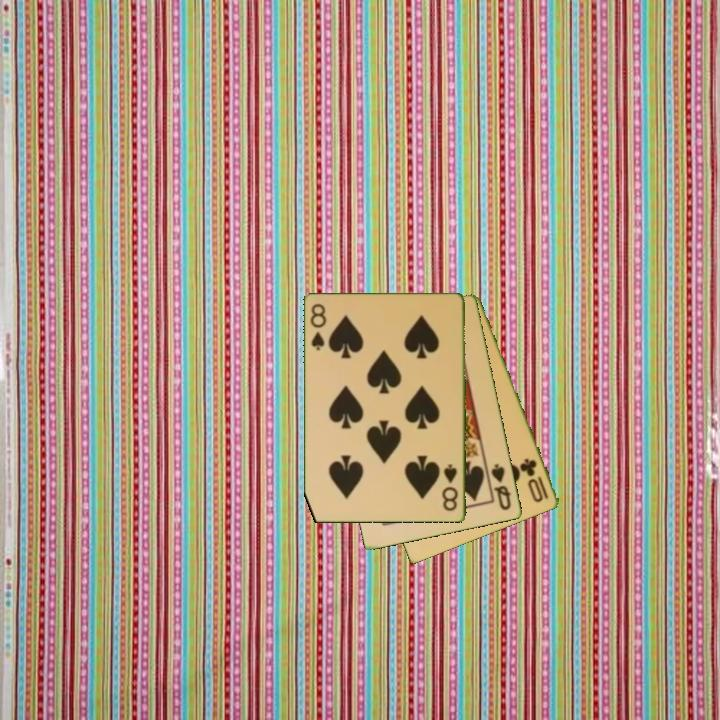10c: (517, 455, 552, 505)
8s: (307, 300, 330, 354), (440, 461, 461, 514)
Qs: (488, 460, 514, 513)
